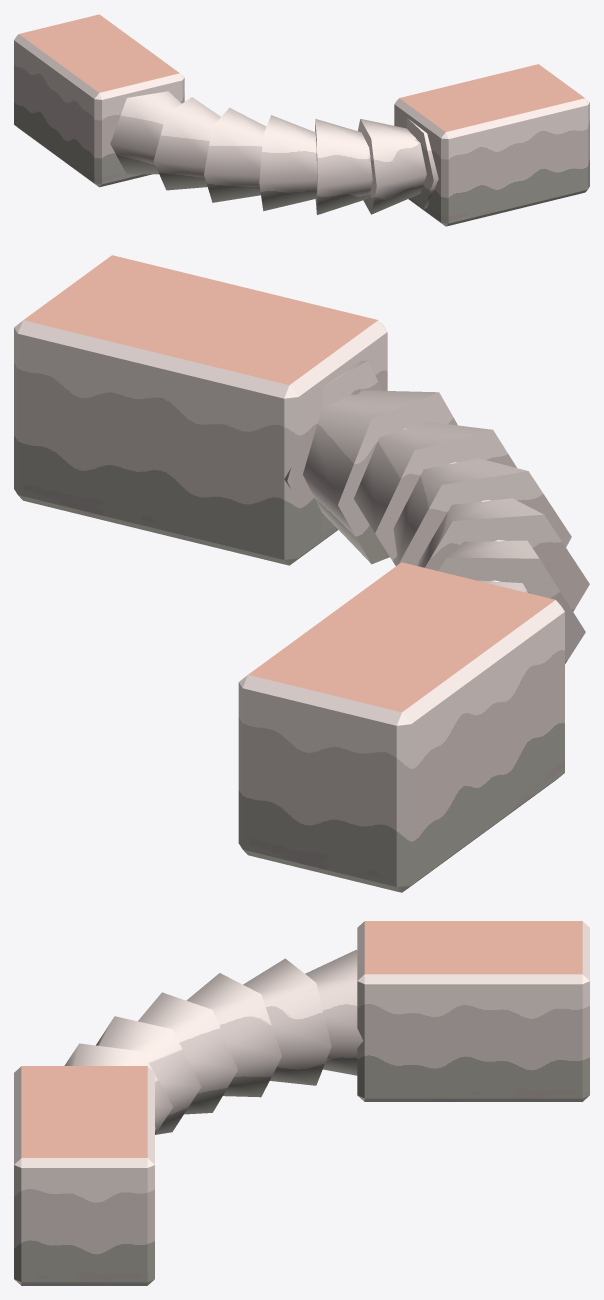
Rendered from R4C_ROD_ARC_SHORT_LOD1.glb.
The picture shows the model from 3 angles, top to bottom: view 1: azimuth 30°, elevation 25°; view 2: azimuth 150°, elevation 25°; view 3: azimuth 270°, elevation 25°; orthographic projection. The views are drawn at different scales.
Parts seen in each view (by area): view 1: R4C_ROD_ARC_SHORT_LOD1; view 2: R4C_ROD_ARC_SHORT_LOD1; view 3: R4C_ROD_ARC_SHORT_LOD1.
Part boxes in pixels (x1=…): R4C_ROD_ARC_SHORT_LOD1: x1=14, y1=14, x2=589, y2=226; R4C_ROD_ARC_SHORT_LOD1: x1=14, y1=255, x2=589, y2=892; R4C_ROD_ARC_SHORT_LOD1: x1=14, y1=921, x2=589, y2=1285.
Bounding box in the file's own units: 0.923 × 0.226 × 0.923.
2 materials, 2 textured.
